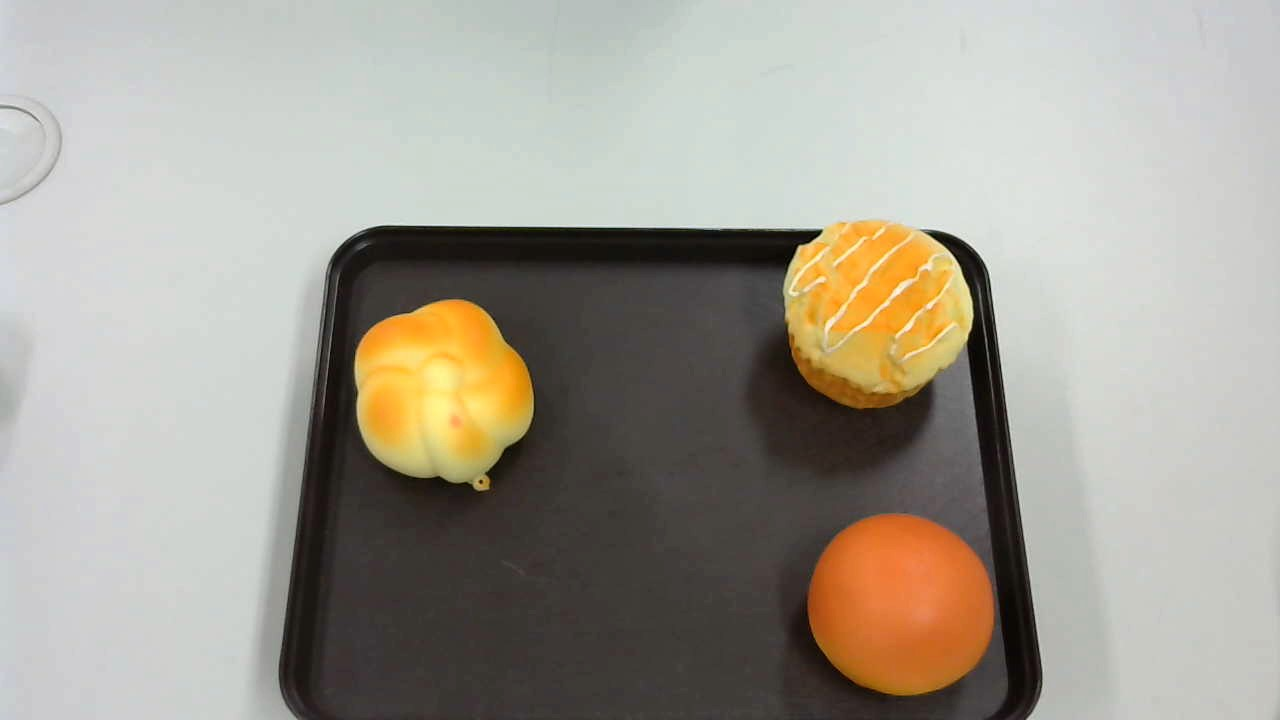bun: (808, 511, 995, 695)
cupcake: (784, 218, 974, 409)
twist bread: (355, 299, 534, 489)
